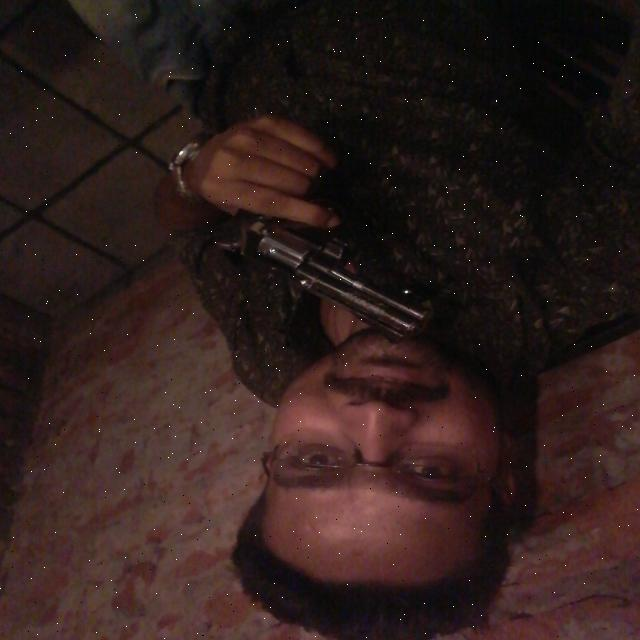gun: (164, 108, 456, 351)
